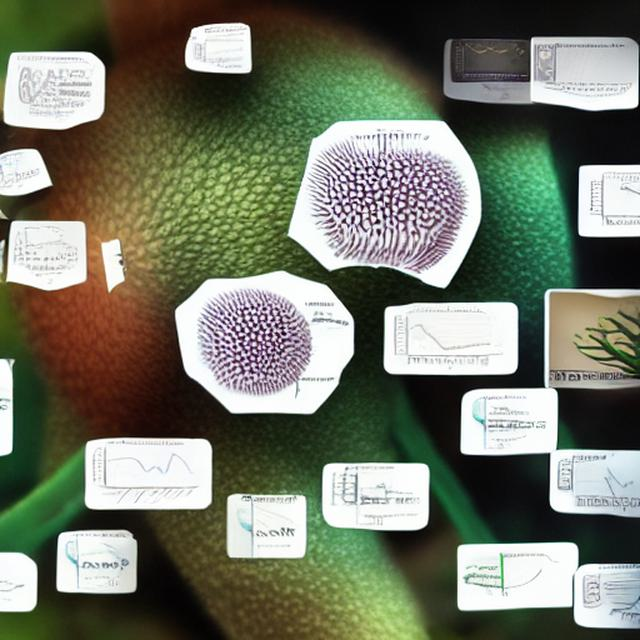Graph: (89, 441, 199, 506), (393, 309, 493, 373), (454, 37, 531, 83), (193, 38, 245, 67)
